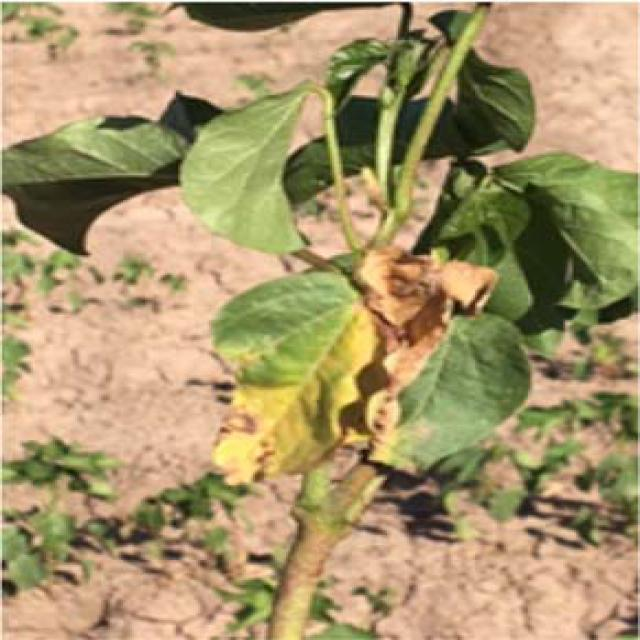Fusarium Wilt: (252, 229, 512, 465)
